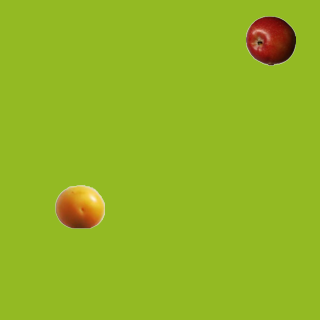Apple Braeburn: (245, 15, 295, 65)
Cherry Wax Yellow: (54, 181, 104, 231)
